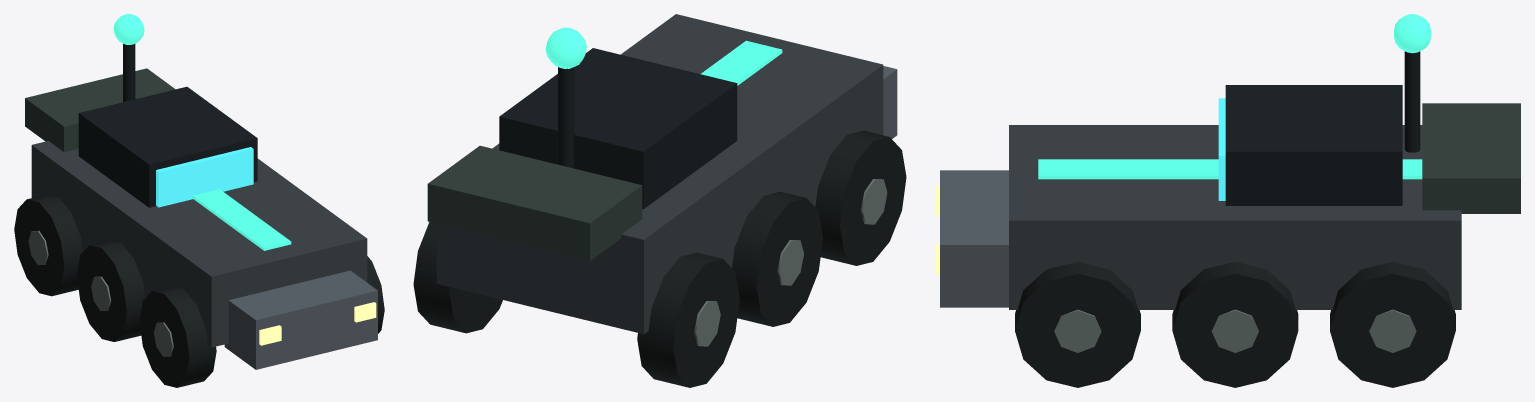
The model's file is crawler.glb.
The picture shows the model from 3 angles, left to right: view 1: azimuth 30°, elevation 25°; view 2: azimuth 150°, elevation 25°; view 3: azimuth 270°, elevation 25°; orthographic projection. The views are drawn at different scales.
Parts seen in each view (by area): view 1: Hull, Tire (×4), Cabin, Nose, Cargo, Glass, Stripe, Hub (×3), Sensor, Mast, LightL, LightR; view 2: Hull, Tire (×4), Cabin, Cargo, Hub (×3), Stripe, Mast, Sensor, Nose; view 3: Hull, Tire (×3), Cabin, Cargo, Nose, Hub (×3), Stripe, Mast, Sensor, Glass.
Part boxes in pixels (bbox=[...]): Hull: bbox=[31, 141, 367, 347]; Tire (×4): bbox=[14, 194, 384, 387]; Cabin: bbox=[78, 86, 257, 207]; Nose: bbox=[224, 270, 377, 369]; Cargo: bbox=[25, 68, 175, 152]; Glass: bbox=[156, 147, 253, 207]; Stripe: bbox=[192, 189, 291, 250]; Hub (×3): bbox=[28, 230, 173, 356]; Sensor: bbox=[113, 14, 144, 44]; Mast: bbox=[123, 43, 135, 101]; LightL: bbox=[259, 325, 281, 345]; LightR: bbox=[354, 302, 376, 322]; Hull: bbox=[436, 14, 883, 334]; Tire (×4): bbox=[413, 130, 906, 387]; Cabin: bbox=[499, 48, 737, 209]; Cargo: bbox=[427, 145, 642, 260]; Hub (×3): bbox=[694, 179, 887, 346]; Stripe: bbox=[700, 40, 782, 85]; Mast: bbox=[558, 67, 574, 168]; Sensor: bbox=[545, 27, 586, 68]; Nose: bbox=[883, 66, 897, 138]; Hull: bbox=[1009, 125, 1461, 309]; Tire (×3): bbox=[1015, 261, 1455, 387]; Cabin: bbox=[1225, 85, 1402, 205]; Cargo: bbox=[1422, 103, 1520, 213]; Nose: bbox=[940, 170, 1008, 307]; Hub (×3): bbox=[1054, 309, 1416, 352]; Stripe: bbox=[1038, 159, 1422, 179]; Mast: bbox=[1404, 51, 1420, 152]; Sensor: bbox=[1394, 14, 1431, 53]; Glass: bbox=[1218, 98, 1225, 200].
Bounding box in the file's own units: 1.46 × 1.75 × 2.97.
